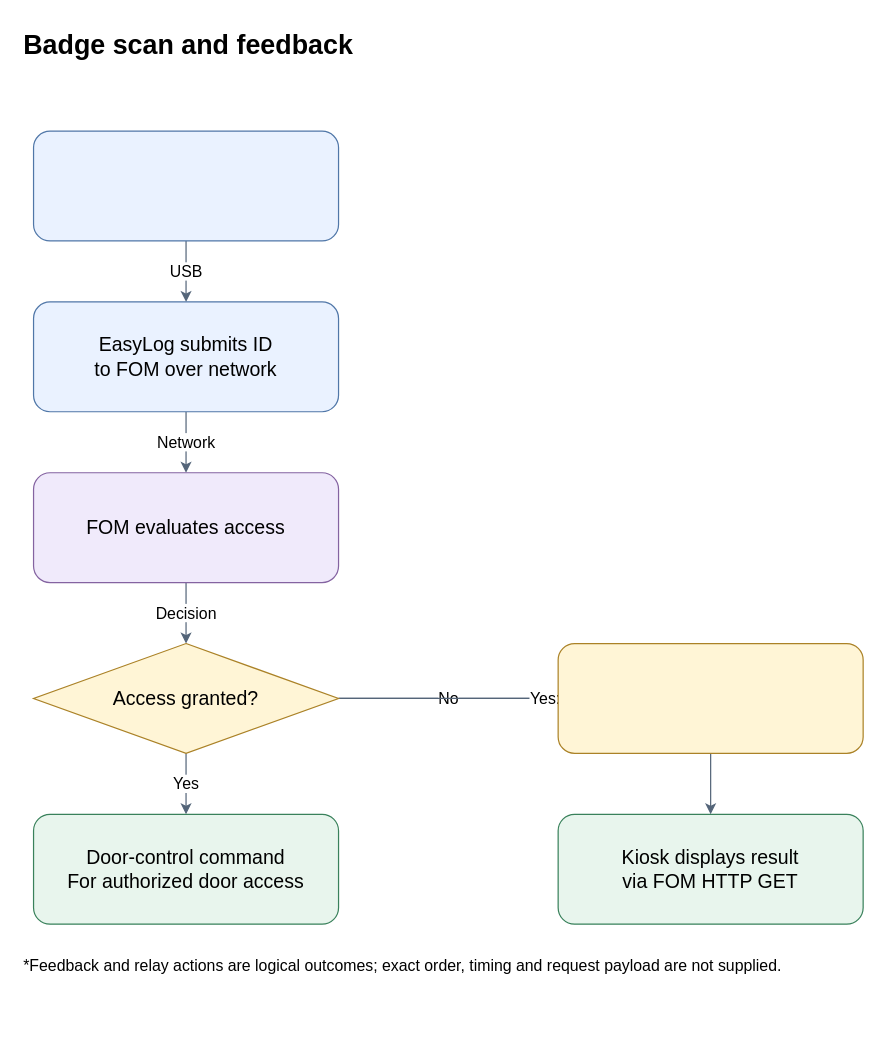
This 895x1037 diagram has some shape labels left out. The shapes that lost their labels are listed below. From the top down, each one's centre as x and y in pixels, then its label:
At pixel 185 185: "Tap ID at reader".
At pixel 710 697: "No authorized unlock Display denial / missing certs".
